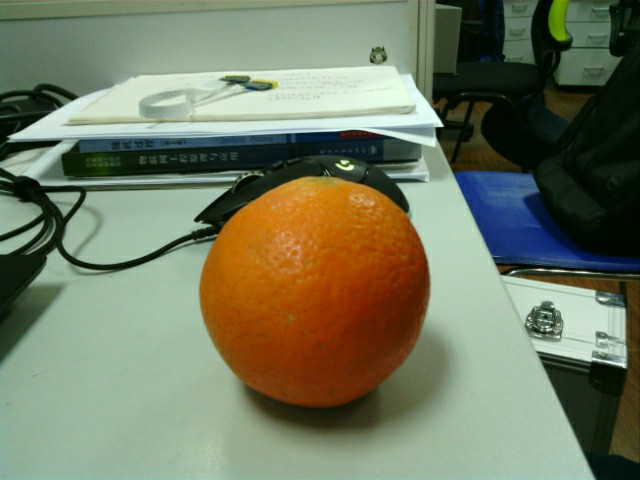normal_orange: (202, 177, 433, 409)
